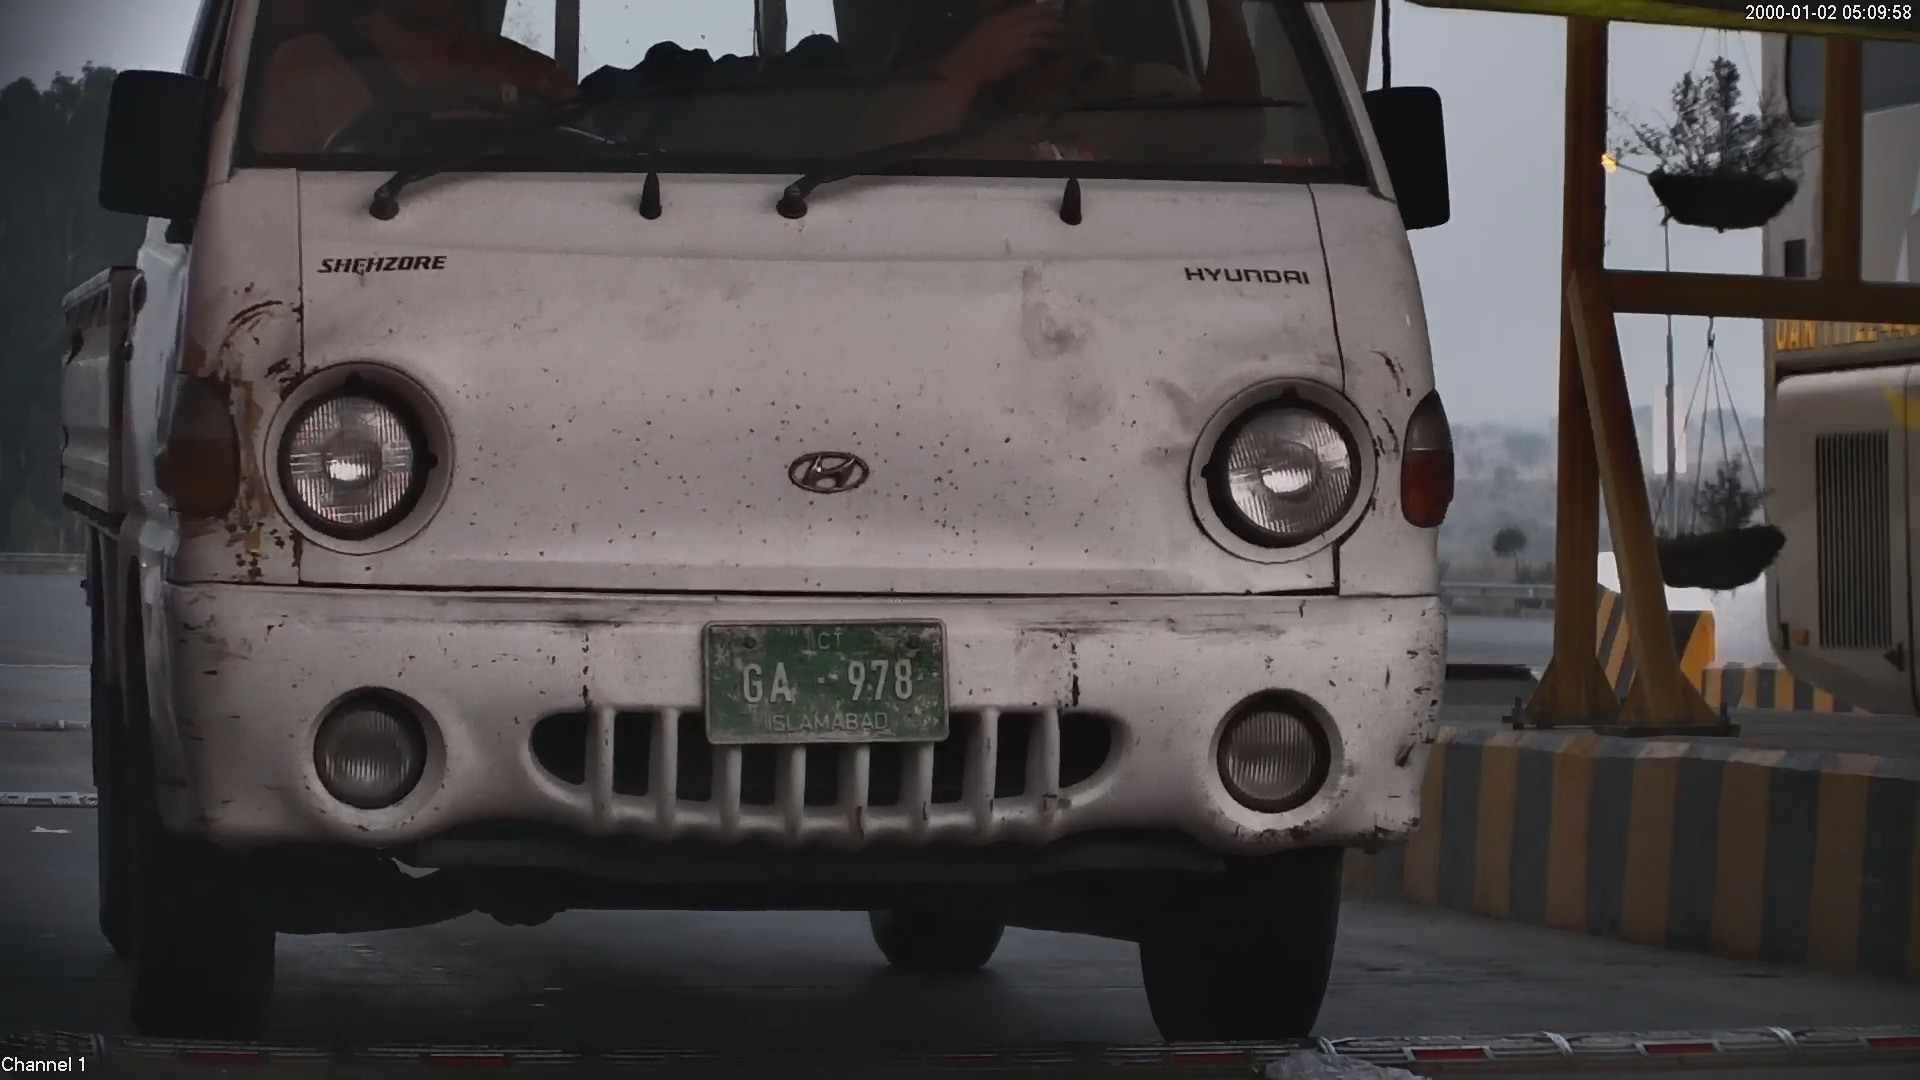Number_Plate: (689, 602, 961, 760)
